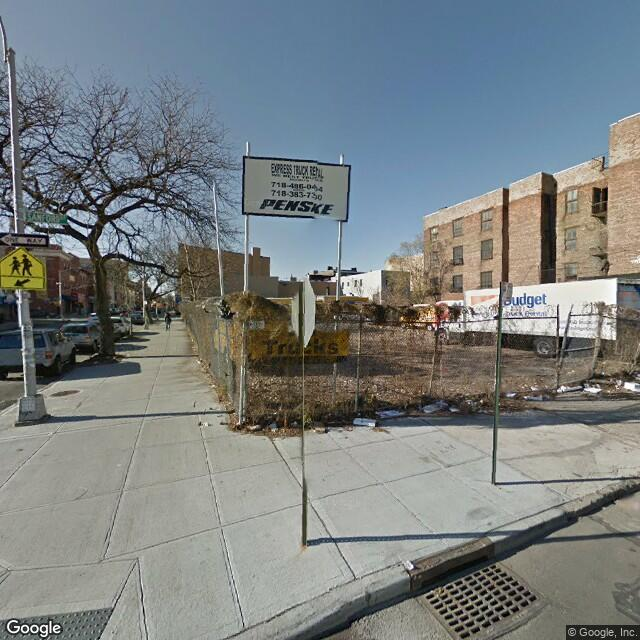litter: (303, 419, 330, 435), (352, 416, 378, 431), (462, 398, 488, 412), (584, 385, 604, 402), (556, 385, 582, 398), (421, 401, 448, 411), (609, 379, 628, 392), (195, 417, 214, 429), (112, 354, 134, 364), (623, 377, 640, 389), (376, 412, 408, 418), (524, 396, 550, 403), (450, 407, 465, 418), (531, 383, 553, 390), (504, 392, 520, 401), (334, 423, 345, 434), (288, 418, 298, 430), (246, 425, 262, 432), (268, 423, 279, 432), (89, 358, 101, 366), (195, 359, 207, 366), (206, 383, 220, 388)
